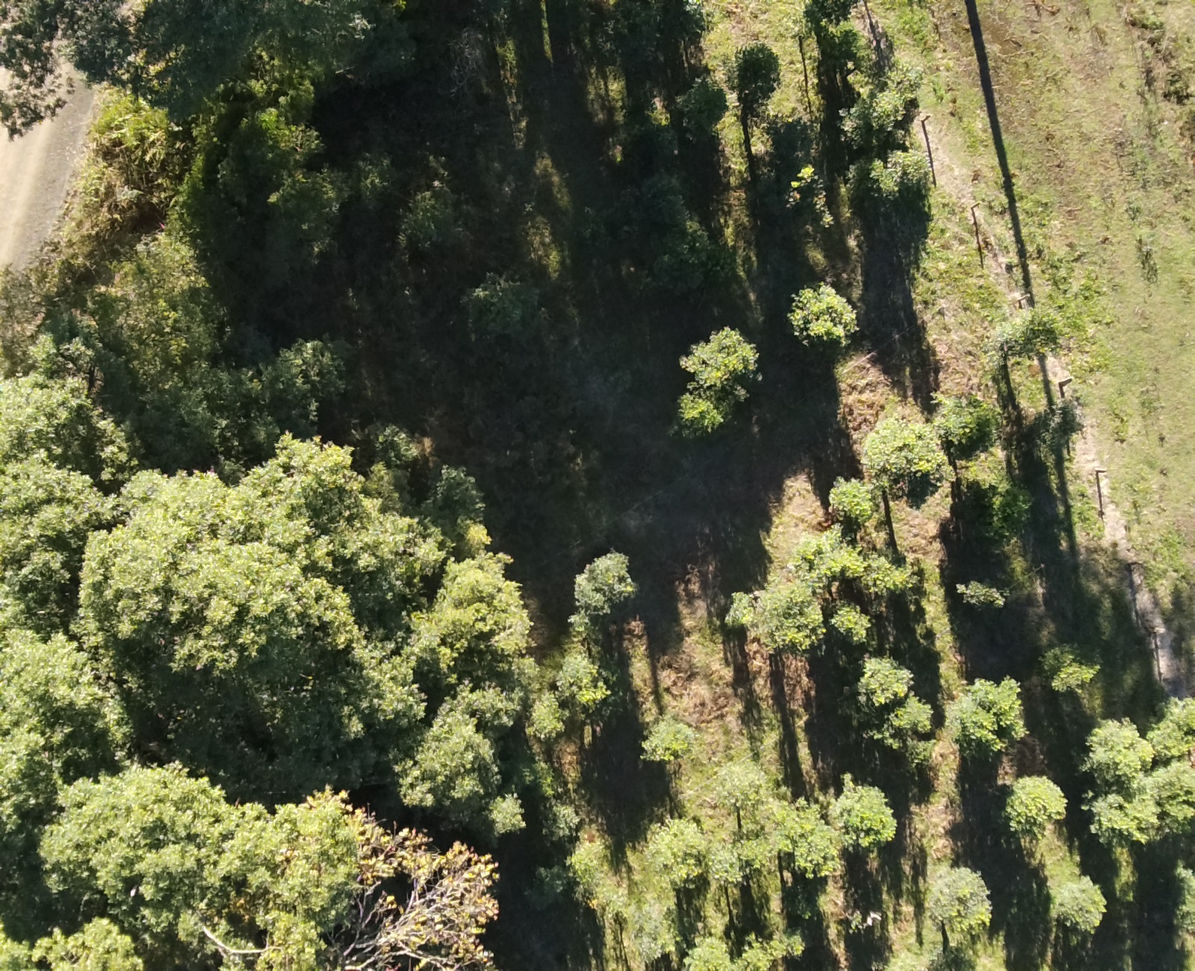erva: (864, 403, 946, 503), (719, 579, 824, 655), (918, 862, 999, 943), (831, 769, 902, 857), (553, 554, 643, 623), (674, 323, 755, 399), (926, 380, 994, 458), (724, 43, 791, 120), (781, 281, 855, 350), (1002, 775, 1073, 843), (772, 798, 837, 872), (636, 825, 703, 896), (684, 925, 787, 970), (1132, 763, 1194, 834), (1087, 797, 1153, 863), (842, 648, 917, 706), (641, 705, 695, 785), (1043, 873, 1107, 938), (1086, 717, 1151, 780), (671, 74, 733, 137), (875, 701, 936, 762), (816, 471, 876, 530), (870, 148, 929, 208), (957, 682, 1006, 754), (1043, 631, 1097, 695), (704, 744, 756, 810), (667, 388, 729, 437), (777, 155, 825, 214), (803, 534, 860, 580), (869, 551, 922, 599), (1152, 697, 1194, 757), (707, 834, 741, 905), (957, 568, 1006, 614), (991, 680, 1026, 743), (829, 602, 875, 648), (789, 0, 863, 28), (868, 153, 899, 212)
